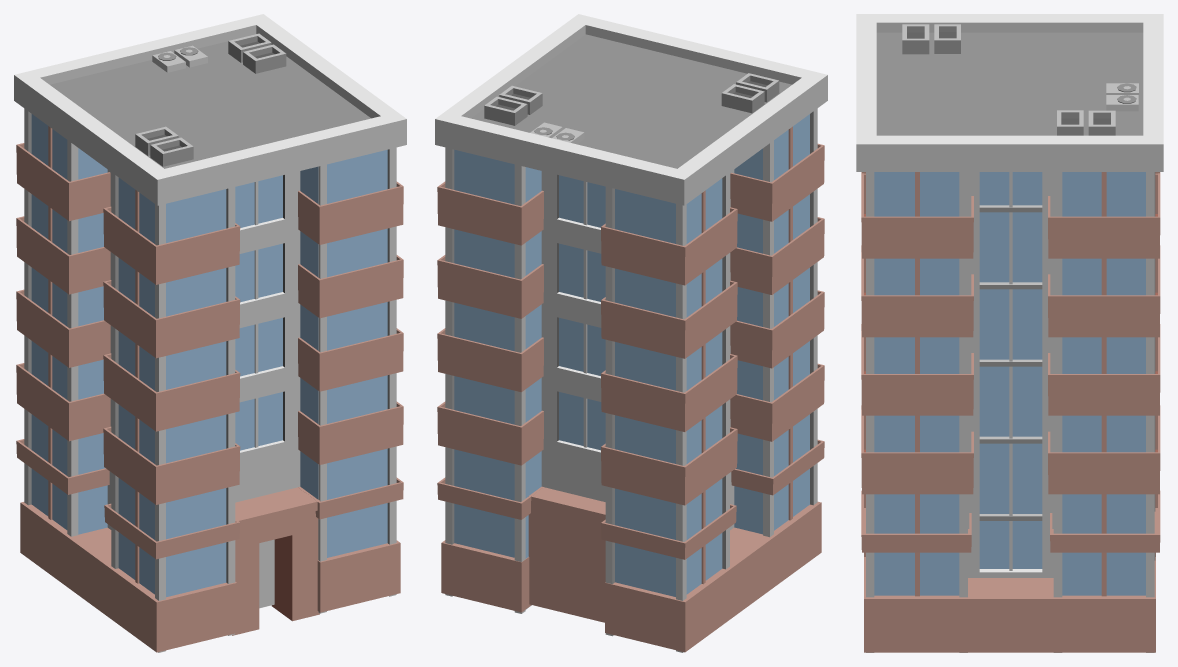
File: house_middle_001.glb
The picture shows the model from 3 angles, left to right: view 1: azimuth 30°, elevation 25°; view 2: azimuth 150°, elevation 25°; view 3: azimuth 270°, elevation 25°; orthographic projection. The views are drawn at different scales.
Visible parts, largest first — view 1: house_middle_001; view 2: house_middle_001; view 3: house_middle_001.
Boxes of the visible parts, bbox=[...] form: house_middle_001: bbox=[14, 14, 406, 652]; house_middle_001: bbox=[435, 14, 827, 652]; house_middle_001: bbox=[856, 14, 1163, 652].
Size of the model in its own units: 7.23 by 13.4 by 7.2.
Materials: 1 (1 with a texture image).
